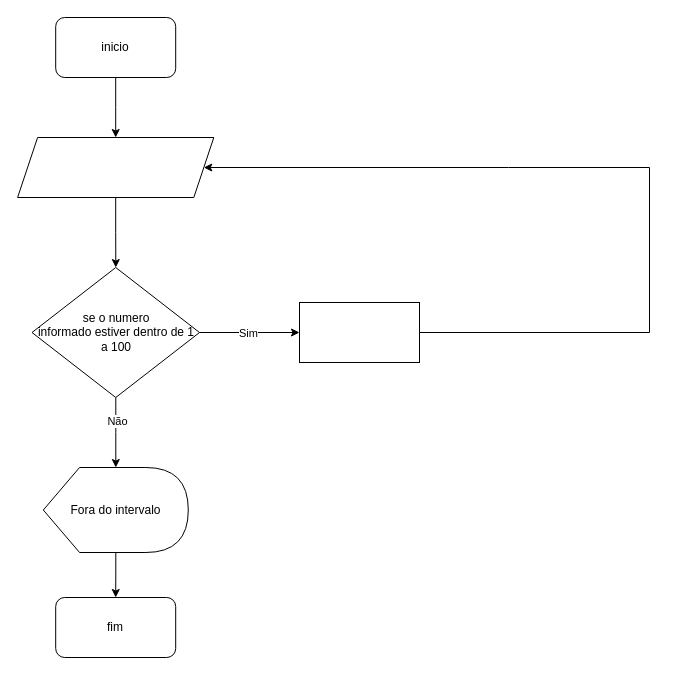
Some shapes in this 675 by 675 pixel diagram are drawn without their labels. Here are the shapes that lost their labels. From the top down, the box of each, then its label:
(17, 136, 214, 198): informe um numero
(298, 302, 420, 362): Dentro do intervalo
